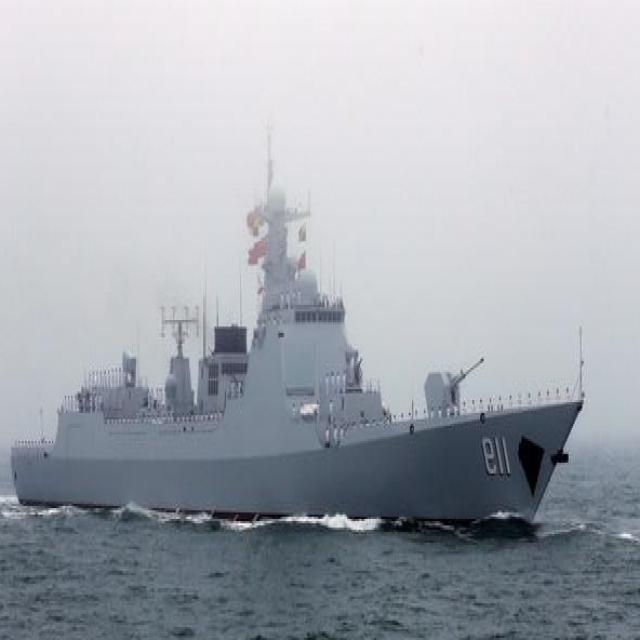navalvessels: (15, 105, 586, 539)
